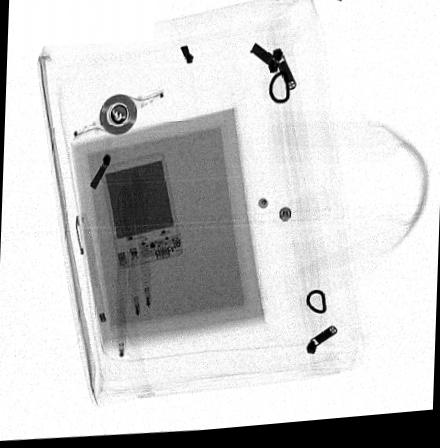Powerbank: (94, 151, 184, 271)
